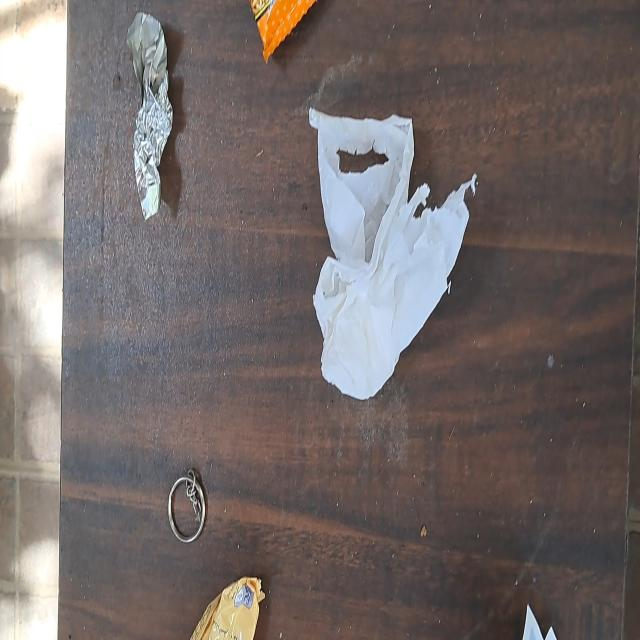Anorganik: (125, 15, 175, 217), (169, 472, 208, 540)
Organik: (310, 107, 480, 401)
